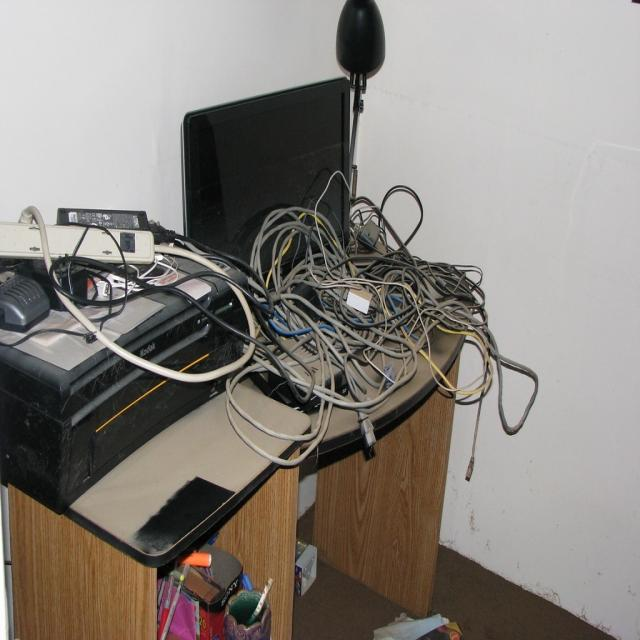Cable: (252, 180, 541, 480)
E-waste: (6, 154, 242, 580)
